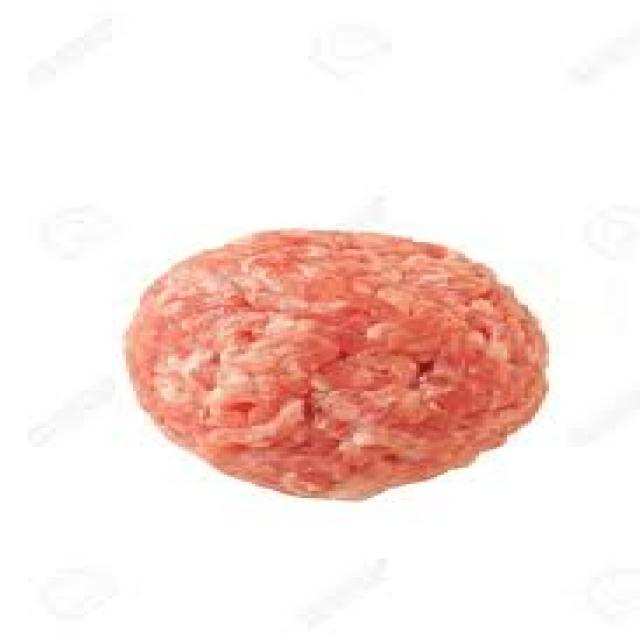meatball: (88, 210, 580, 549)
